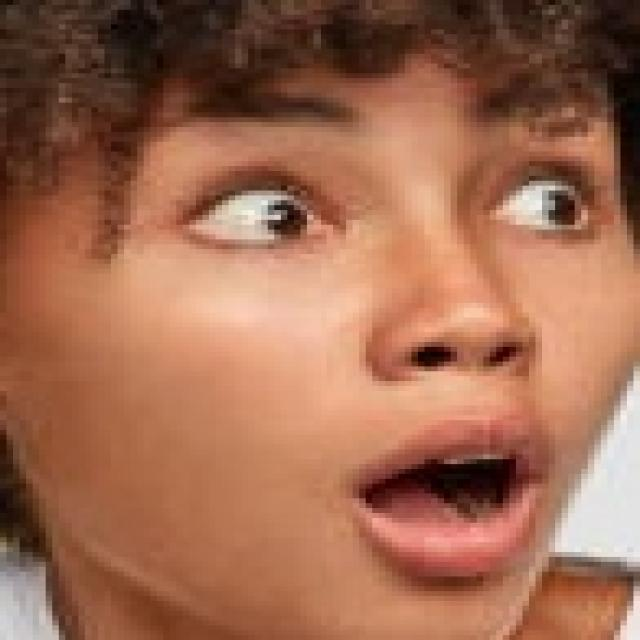Anxiety: (0, 33, 633, 635)
